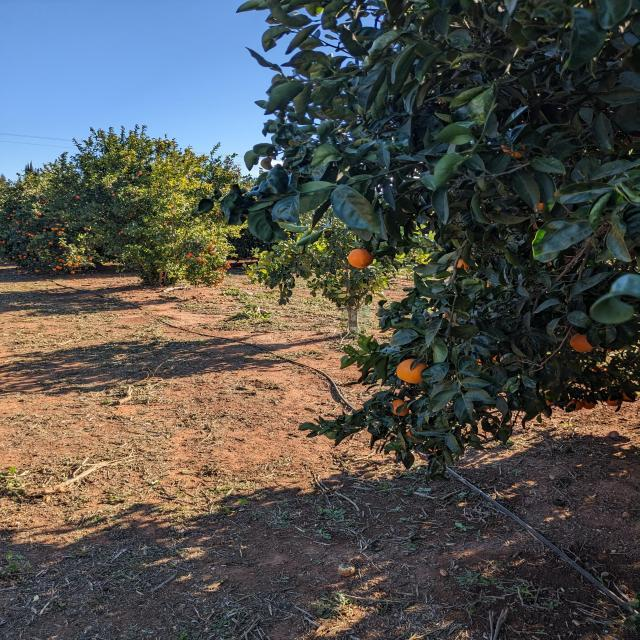Jeruk Sudah Matang: (395, 358, 429, 384), (570, 333, 596, 352), (348, 248, 373, 267), (390, 400, 410, 416), (620, 390, 638, 402), (570, 398, 584, 412), (513, 144, 525, 158), (606, 396, 620, 406), (456, 260, 469, 270), (583, 398, 596, 408), (539, 202, 545, 212), (502, 145, 509, 152)
